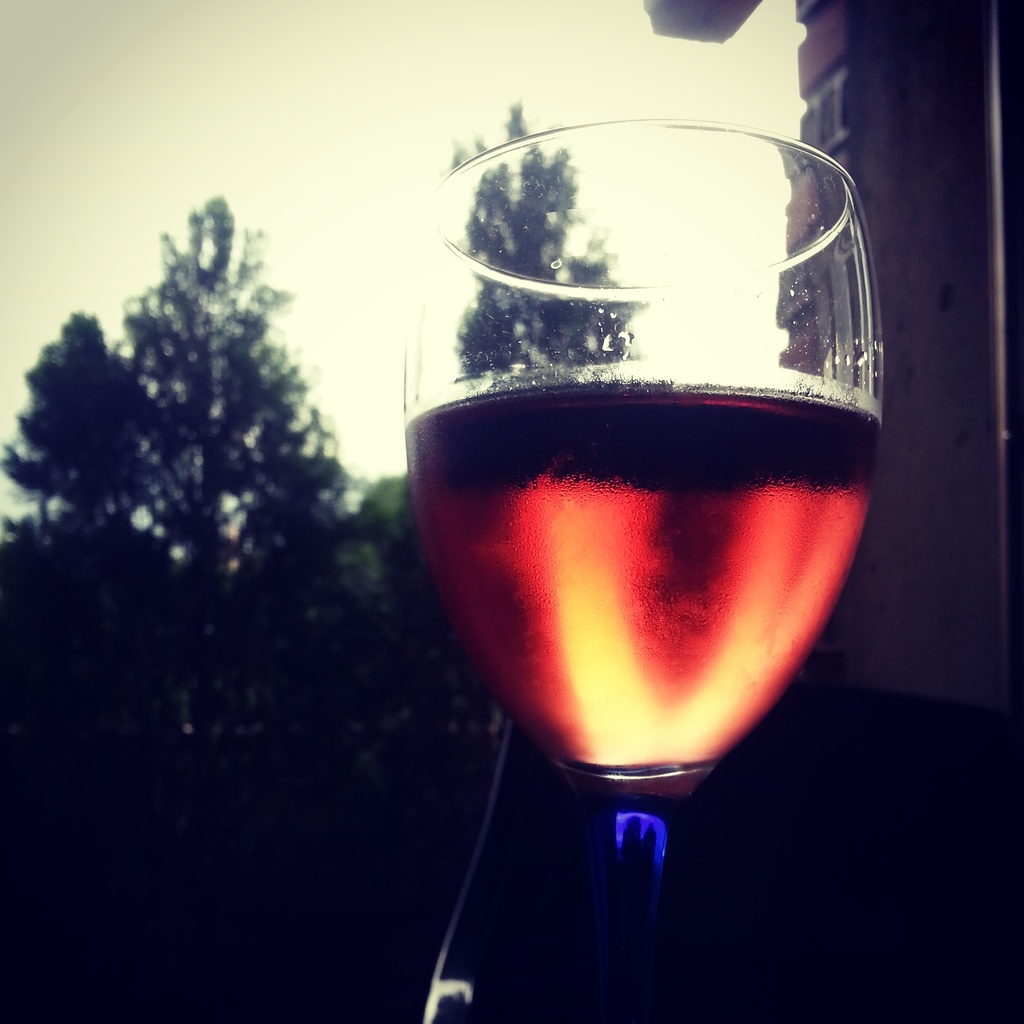Beer: (397, 368, 887, 788)
